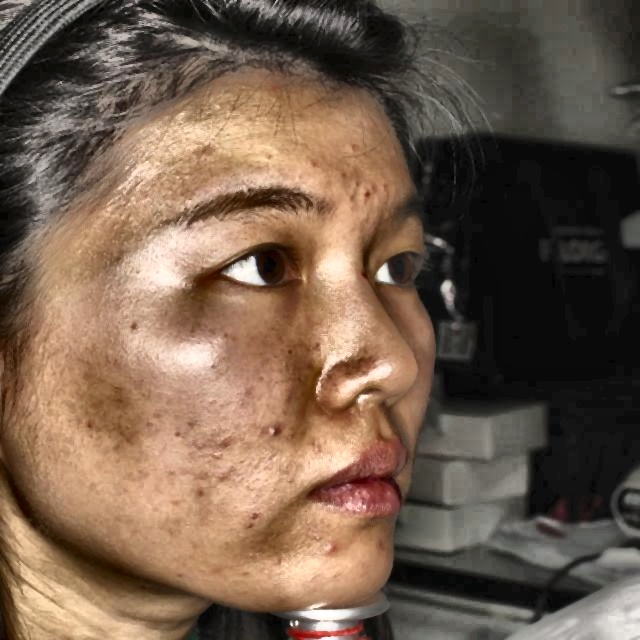pustule: (333, 134, 371, 157), (208, 465, 234, 486), (213, 436, 240, 451), (318, 536, 338, 556), (303, 154, 323, 174), (361, 185, 377, 197)
